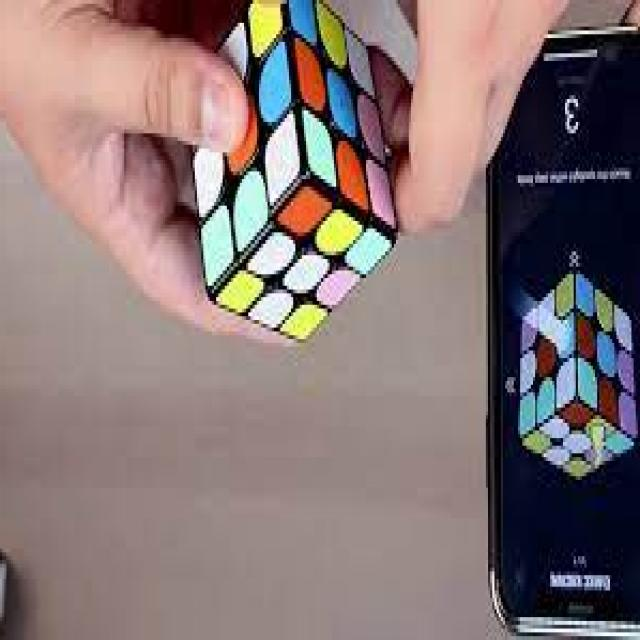cube: (206, 0, 377, 347)
